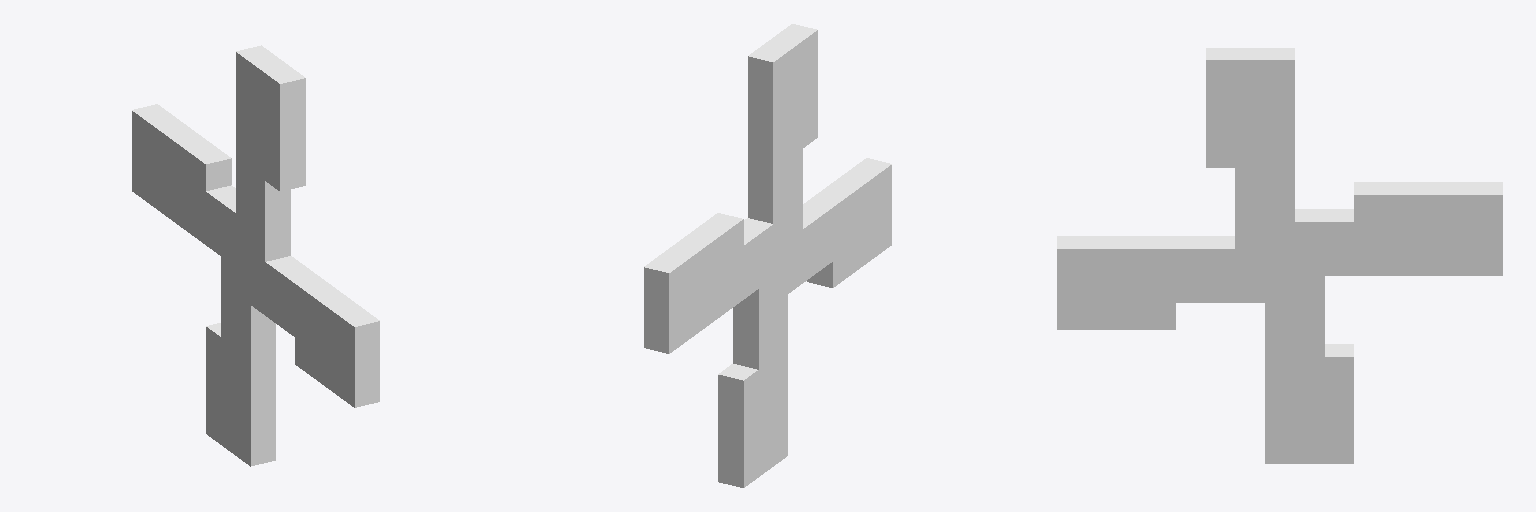
Rendered from windmill.obj.
3 views of the same model, side by side, from view 1: azimuth 30°, elevation 25°; view 2: azimuth 150°, elevation 25°; view 3: azimuth 270°, elevation 25° (orthographic).
Parts seen in each view (by area): view 1: object 1; view 2: object 1; view 3: object 1.
Part boxes in pixels (x1,y1,x2,y2): object 1: (132, 45, 379, 466); object 1: (644, 24, 891, 487); object 1: (1057, 48, 1502, 463).
Bounding box in the file's own units: 0.1 × 1.5 × 1.5.